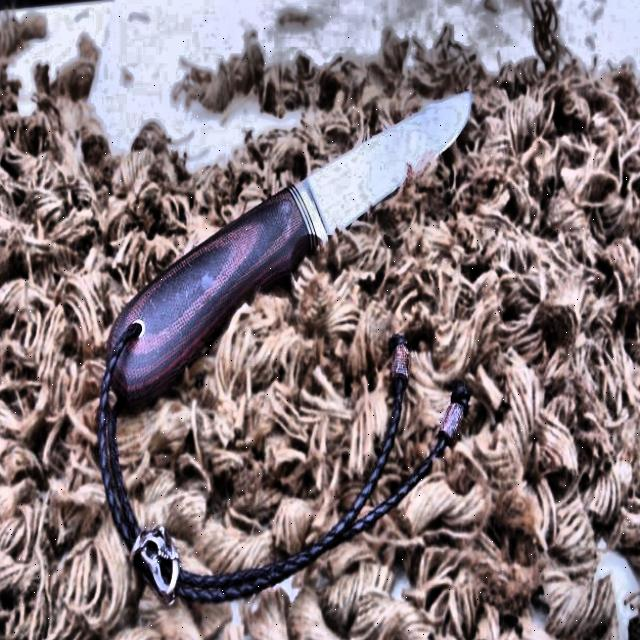knife: (111, 80, 482, 398)
